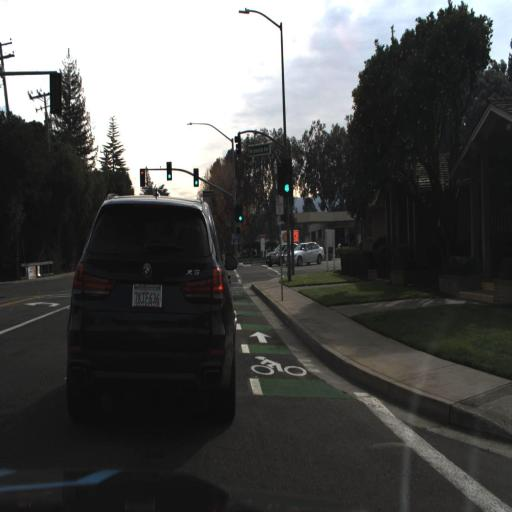car: (59, 178, 241, 433), (283, 239, 325, 269)
trafficLight: (136, 162, 148, 193)
trafficLight-Green: (277, 156, 295, 204), (166, 160, 172, 178), (237, 207, 243, 224), (193, 168, 198, 187)
